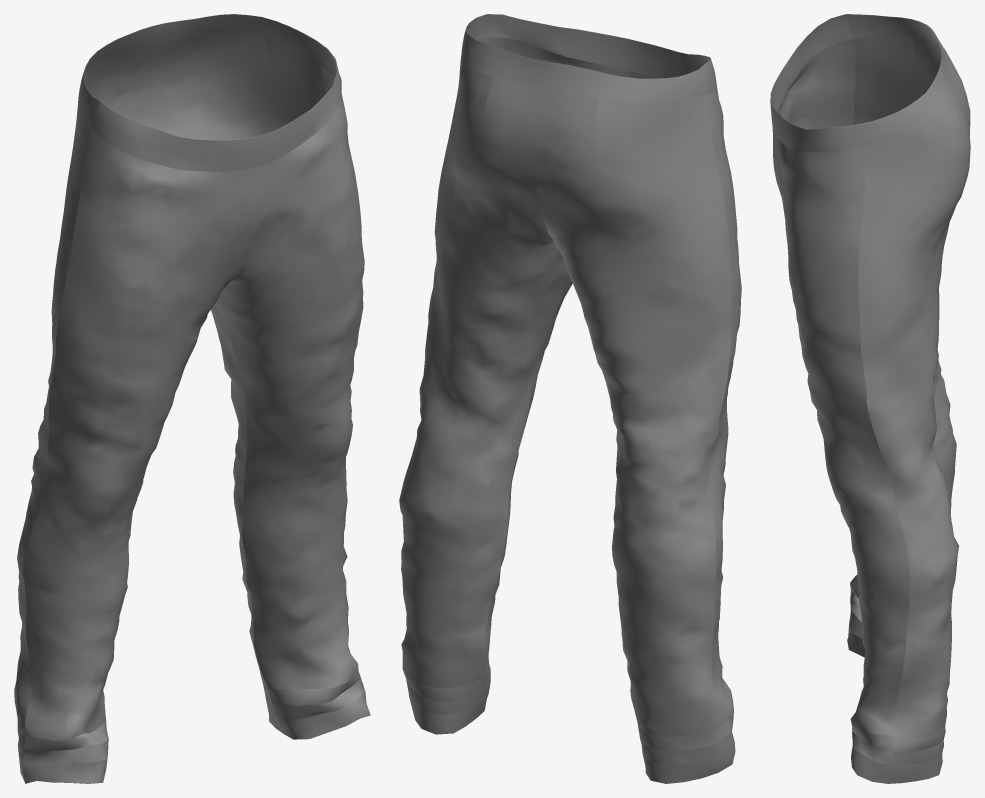
File: GracechappelPants.glb
The picture shows the model from 3 angles, left to right: view 1: azimuth 30°, elevation 25°; view 2: azimuth 150°, elevation 25°; view 3: azimuth 270°, elevation 25°; orthographic projection. The views are drawn at different scales.
Visible parts, largest first — view 1: GracechappelPants; view 2: GracechappelPants; view 3: GracechappelPants.
Boxes of the visible parts, x1,y1,x2,y2 form: GracechappelPants: (14,14,370,783); GracechappelPants: (399,14,741,783); GracechappelPants: (770,14,970,783).
Size of the model in its own units: 4.99 by 10.26 by 2.8.
1 material, 1 textured.
